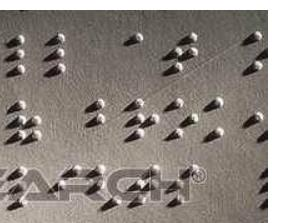Braille: (133, 31, 161, 77), (55, 32, 84, 76), (14, 99, 43, 143), (132, 97, 161, 141), (211, 95, 240, 139), (15, 33, 44, 76), (94, 98, 122, 142), (173, 97, 200, 142), (171, 31, 199, 74), (94, 165, 123, 206), (15, 167, 43, 208), (173, 165, 201, 206), (135, 165, 161, 207), (57, 165, 82, 206), (254, 31, 268, 71), (254, 97, 268, 136)
